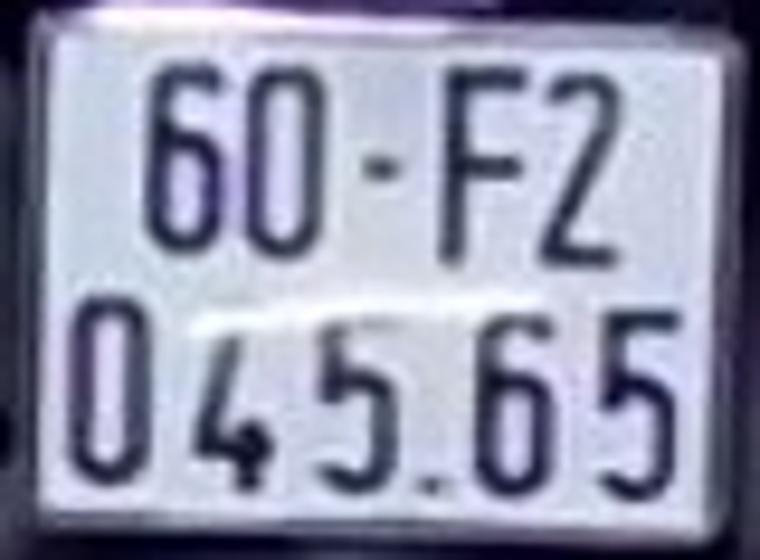-: (357, 160, 392, 179)
0: (69, 292, 150, 484), (246, 65, 321, 254)
2: (543, 73, 617, 269)
4: (188, 322, 270, 492)
5: (316, 310, 401, 492), (601, 304, 677, 500)
6: (474, 311, 552, 498), (146, 61, 219, 251), (423, 475, 439, 497)
F: (442, 63, 518, 263)
